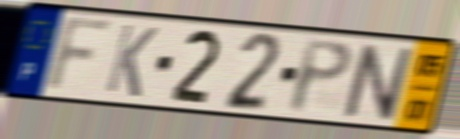2: (221, 30, 283, 113), (169, 28, 221, 107)
F: (41, 14, 120, 96)
K: (102, 21, 161, 100)
N: (340, 40, 415, 124)
P: (287, 36, 356, 116)
